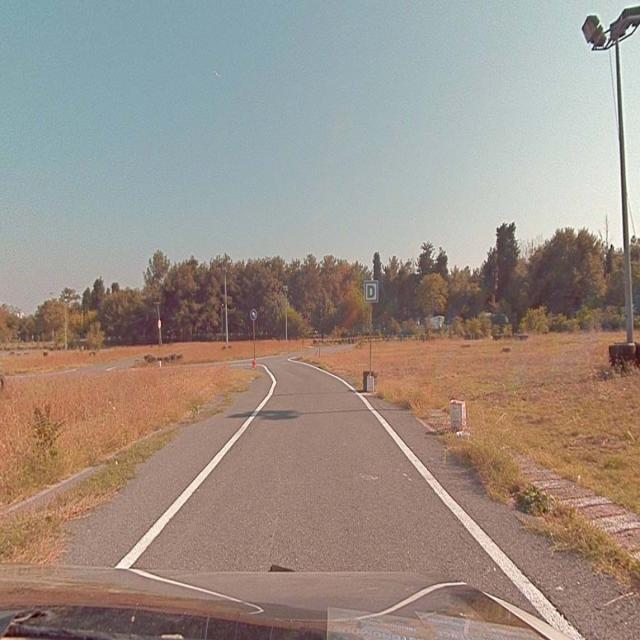durak: (364, 280, 378, 304)
sol: (250, 309, 256, 319)
